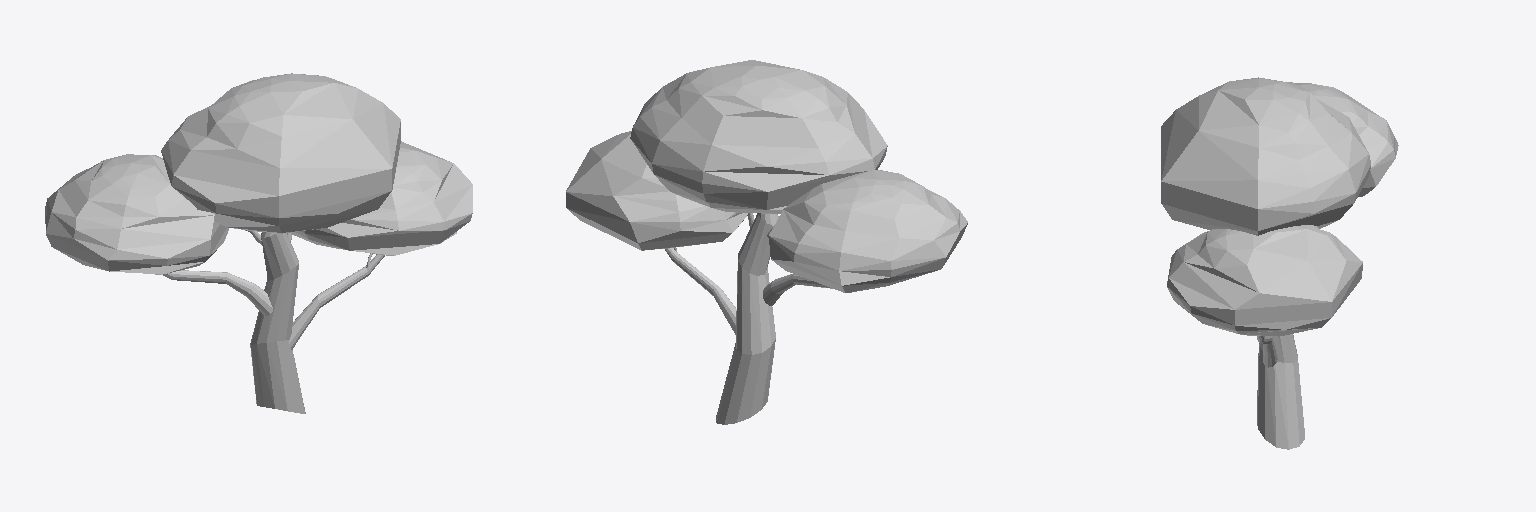
The model's file is Tree.obj.
3 renders of one model, left to right at view 1: azimuth 30°, elevation 25°; view 2: azimuth 150°, elevation 25°; view 3: azimuth 270°, elevation 25°, orthographic.
Visible parts, largest first — view 1: Bush, Bush.001, Bush.002, Trunk, Trunk.001, Trunk.002; view 2: Bush, Bush.001, Bush.002, Trunk, Trunk.002, Trunk.001; view 3: Bush, Bush.002, Trunk, Bush.001.
Boxes of the visible parts, x1,y1,x2,y2 form: Bush: [161, 73, 400, 233]; Bush.001: [45, 154, 228, 274]; Bush.002: [292, 141, 472, 255]; Trunk: [250, 232, 305, 413]; Trunk.001: [163, 270, 272, 316]; Trunk.002: [289, 254, 384, 349]; Bush: [630, 60, 887, 213]; Bush.001: [769, 170, 967, 292]; Bush.002: [566, 131, 747, 250]; Trunk: [716, 213, 778, 424]; Trunk.002: [665, 248, 736, 334]; Trunk.001: [763, 274, 832, 305]; Bush: [1161, 77, 1370, 235]; Bush.002: [1167, 225, 1362, 336]; Trunk: [1257, 334, 1304, 449]; Bush.001: [1289, 82, 1398, 196].
Bounding box in the file's own units: 2.03 × 1.7 × 1.07.